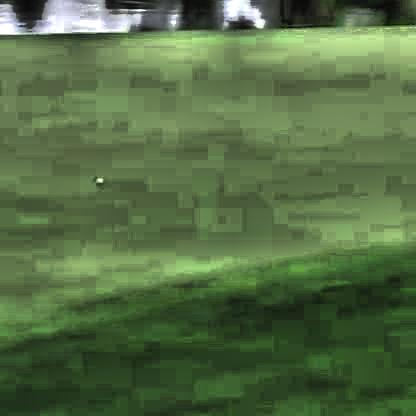golfball: (94, 173, 104, 183)
